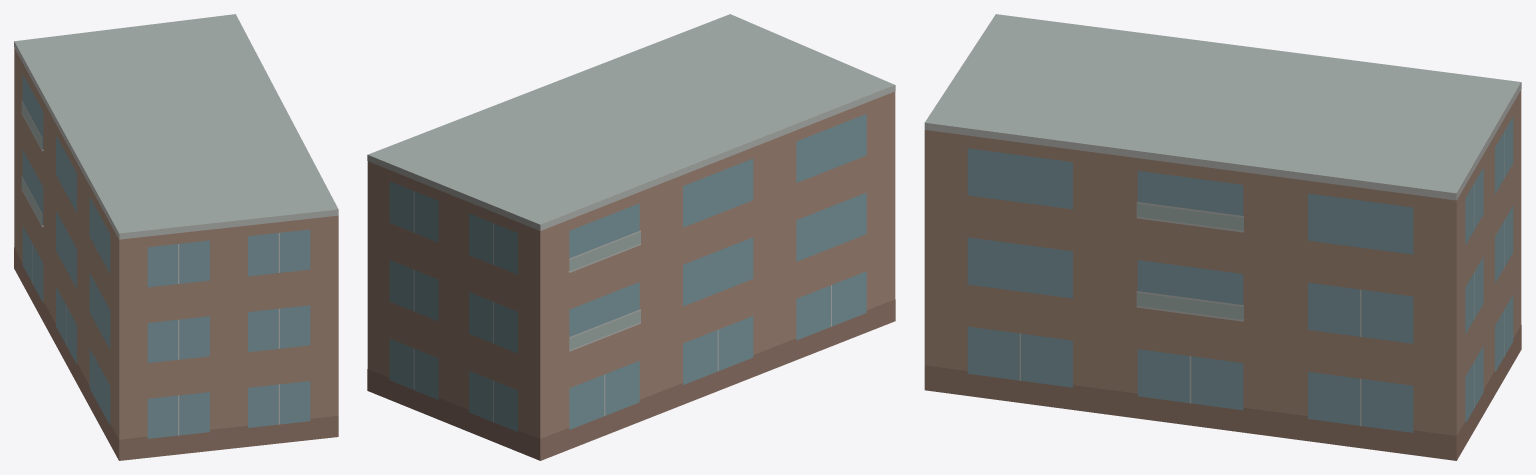
The model's file is survey-upis-32767122.glb.
The picture shows the model from 3 angles, left to right: view 1: azimuth 30°, elevation 25°; view 2: azimuth 150°, elevation 25°; view 3: azimuth 270°, elevation 25°; orthographic projection. The views are drawn at different scales.
Parts seen in each view (by area): view 1: survey-upis-32767122.tmp; view 2: survey-upis-32767122.tmp; view 3: survey-upis-32767122.tmp.
Part boxes in pixels (x1,y1,x2,y2): survey-upis-32767122.tmp: (14, 14, 338, 460); survey-upis-32767122.tmp: (367, 14, 895, 460); survey-upis-32767122.tmp: (924, 14, 1521, 460).
Bounding box in the file's own units: 13.17 × 9.15 × 18.51.
